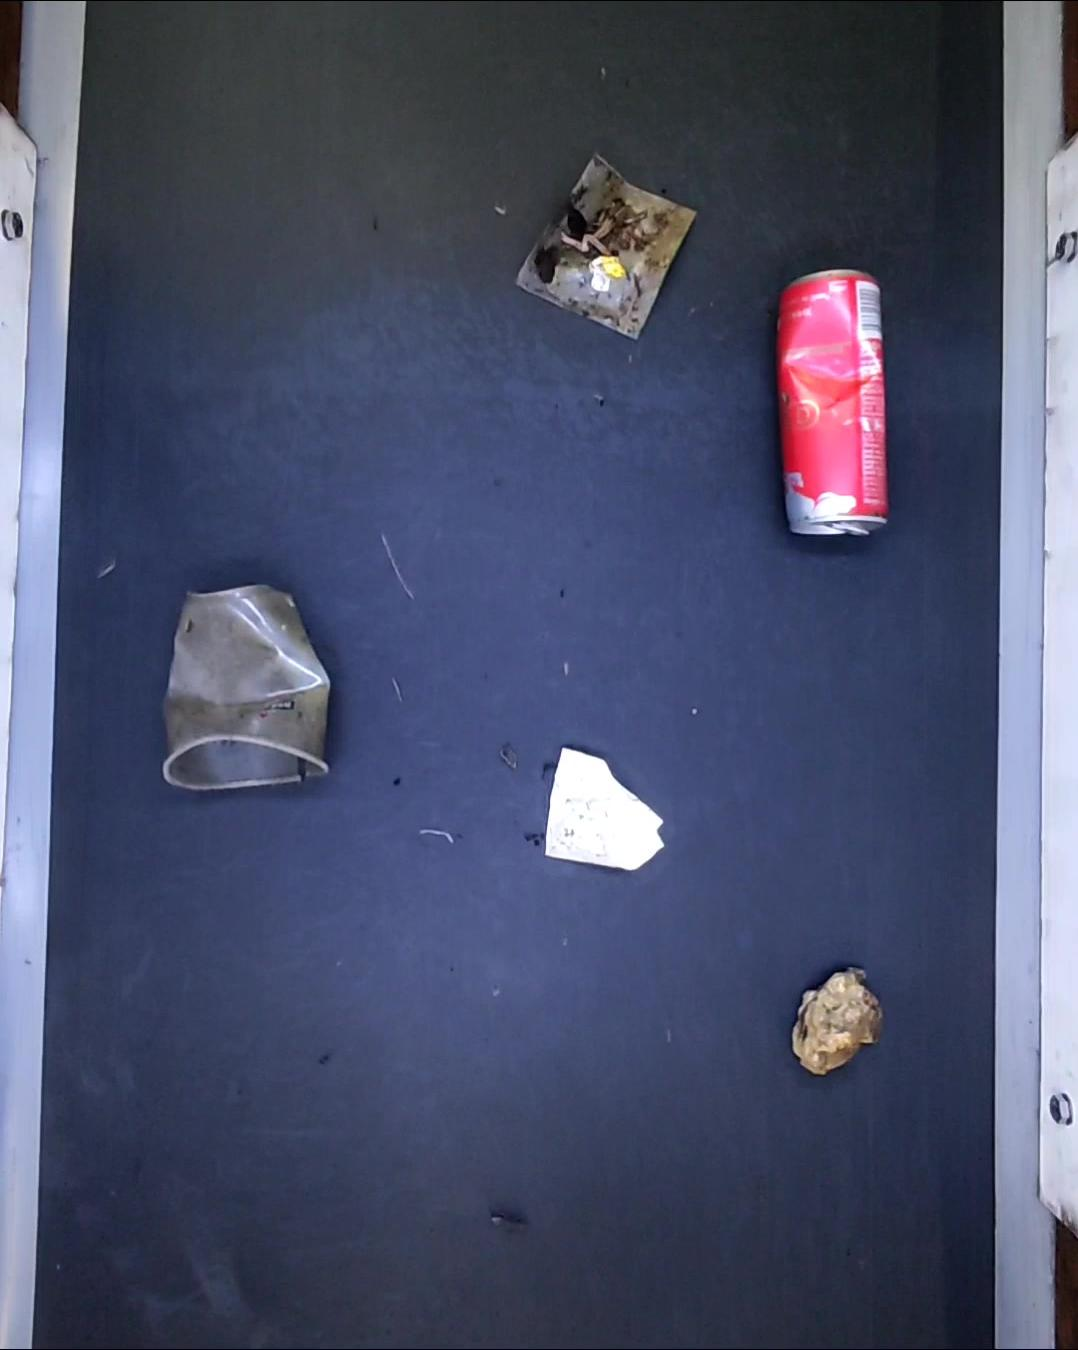Drankblikjes: (772, 272, 894, 534)
Plastic folies of stukken daarvan 2.5- 50 cm: (512, 147, 698, 344)
